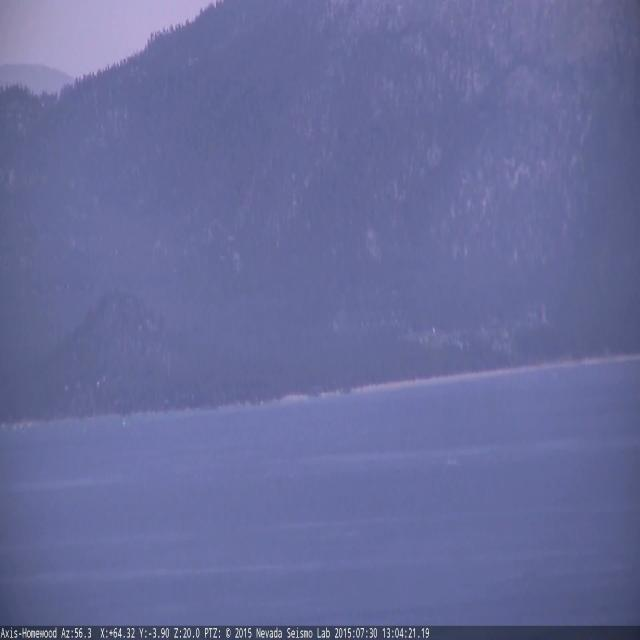smoke: (332, 317, 342, 331)
